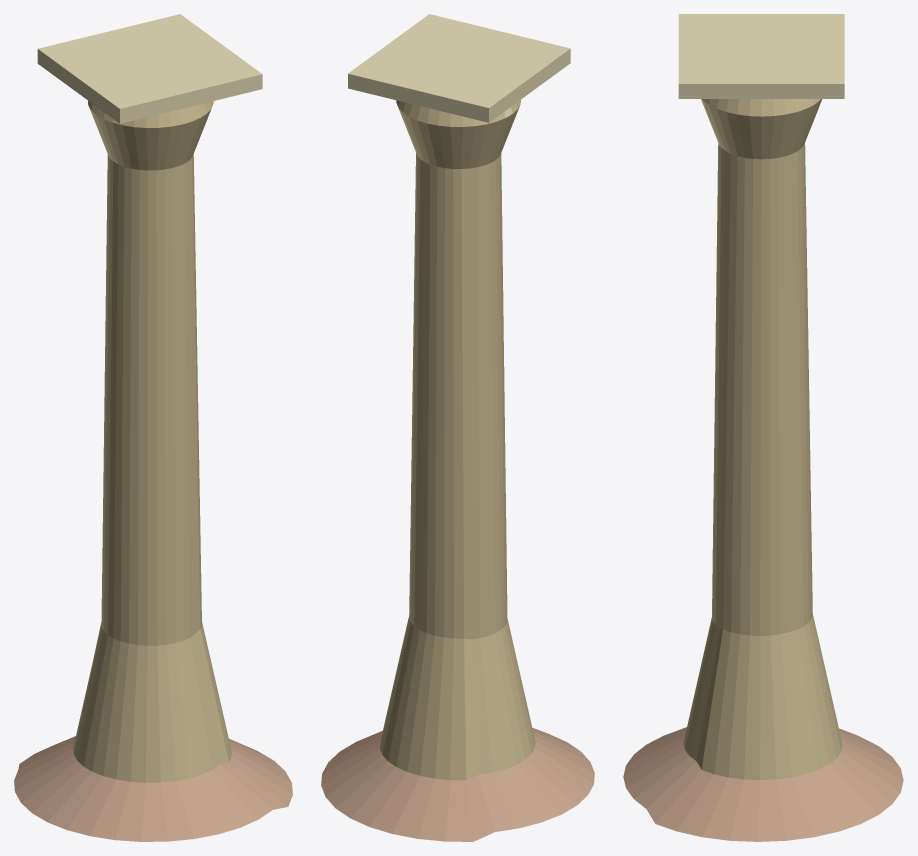
The model's file is Columna2.fbx.
3 renders of one model, left to right at view 1: azimuth 30°, elevation 25°; view 2: azimuth 150°, elevation 25°; view 3: azimuth 270°, elevation 25°, orthographic.
Visible parts, largest first — view 1: Cylinder.003, Cube.017; view 2: Cylinder.003, Cube.017; view 3: Cylinder.003, Cube.017.
Part boxes in pixels (<box>): Cylinder.003: <box>14,101,292,841</box>; Cube.017: <box>37,14,262,123</box>; Cylinder.003: <box>321,100,594,841</box>; Cube.017: <box>348,14,570,122</box>; Cylinder.003: <box>623,99,903,841</box>; Cube.017: <box>678,14,844,98</box>.
Size of the model in its own units: 337 by 975 by 338.
2 materials, 2 textured.
